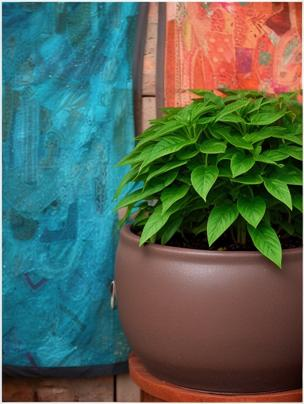pottedplant: (113, 89, 304, 401)
